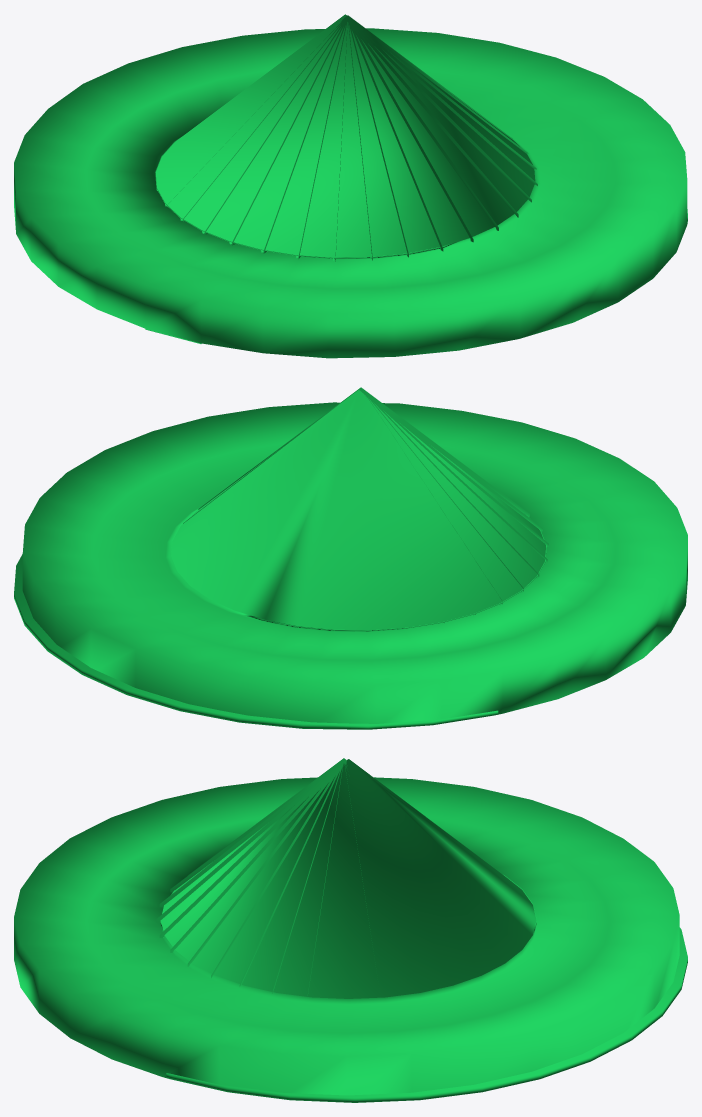
File: Hat.fbx
The picture shows the model from 3 angles, top to bottom: view 1: azimuth 30°, elevation 25°; view 2: azimuth 150°, elevation 25°; view 3: azimuth 270°, elevation 25°; orthographic projection.
Parts seen in each view (by area): view 1: Hat; view 2: Hat; view 3: Hat.
Boxes of the visible parts, x1,y1,x2,y2 form: Hat: (14, 14, 687, 358); Hat: (14, 387, 687, 729); Hat: (14, 758, 687, 1102).
Size of the model in its own units: 357 by 118 by 359.
